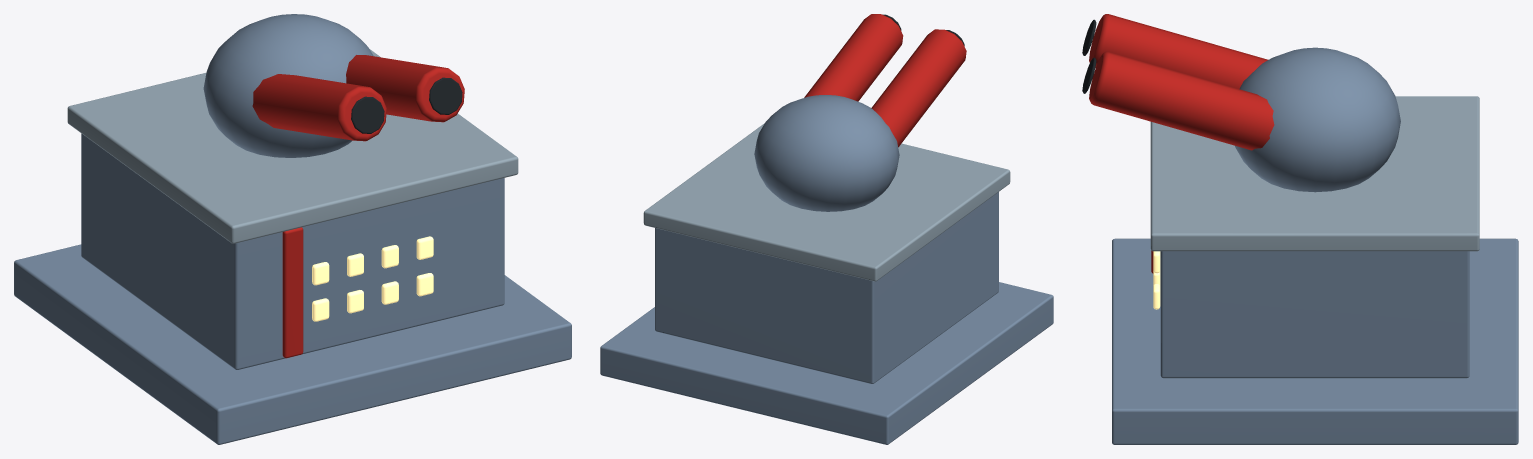
The picture shows the model from 3 angles, left to right: view 1: azimuth 30°, elevation 25°; view 2: azimuth 150°, elevation 25°; view 3: azimuth 270°, elevation 25°; orthographic projection. The views are drawn at different scales.
Visible parts, largest first — view 1: Modular block storey, Foundation slab, Block roof ledge, Weapon pivot, Weapon barrel, Weapon barrel.001, Vertical block colour strip, Weapon dark bore.001, Weapon dark bore; view 2: Modular block storey, Foundation slab, Block roof ledge, Weapon pivot, Weapon barrel, Weapon barrel.001; view 3: Foundation slab, Modular block storey, Block roof ledge, Weapon pivot, Weapon barrel.001, Weapon barrel.
Boxes of the visible parts, left/top/right/bottom form: Modular block storey: left=81, top=133, right=504, bottom=369; Foundation slab: left=14, top=244, right=571, bottom=444; Block roof ledge: left=67, top=49, right=518, bottom=243; Weapon pivot: left=203, top=14, right=373, bottom=157; Weapon barrel: left=252, top=74, right=386, bottom=141; Weapon barrel.001: left=346, top=55, right=464, bottom=122; Vertical block colour strip: left=282, top=227, right=303, bottom=358; Weapon dark bore.001: left=429, top=77, right=462, bottom=114; Weapon dark bore: left=351, top=96, right=384, bottom=133; Modular block storey: left=655, top=192, right=998, bottom=383; Foundation slab: left=600, top=282, right=1053, bottom=444; Block roof ledge: left=643, top=123, right=1010, bottom=281; Weapon pivot: left=754, top=95, right=899, bottom=211; Weapon barrel: left=871, top=29, right=966, bottom=147; Weapon barrel.001: left=804, top=14, right=903, bottom=101; Foundation slab: left=1112, top=238, right=1518, bottom=444; Modular block storey: left=1160, top=251, right=1469, bottom=378; Block roof ledge: left=1150, top=96, right=1479, bottom=251; Weapon pivot: left=1235, top=47, right=1400, bottom=192; Weapon barrel.001: left=1089, top=51, right=1274, bottom=150; Weapon barrel: left=1089, top=14, right=1268, bottom=88.
Bounding box in the file's own units: 2.04 × 1.8 × 2.19.
